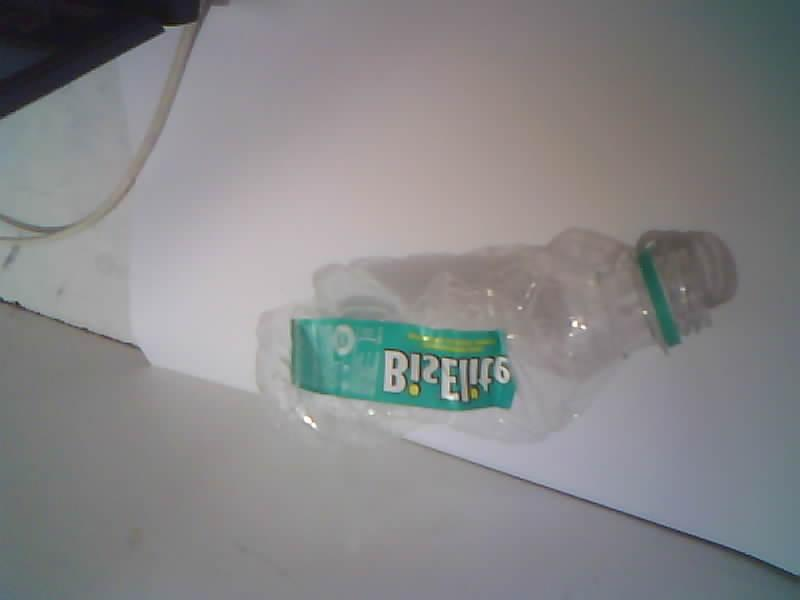non-biodegradable: (257, 229, 735, 442)
